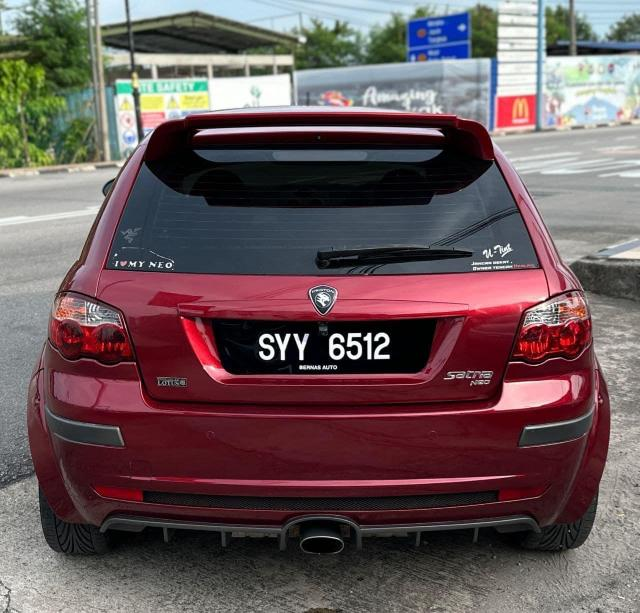License_Plate: (218, 323, 412, 368)
car: (28, 101, 606, 561)
